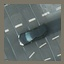car: (16, 25, 48, 47)
